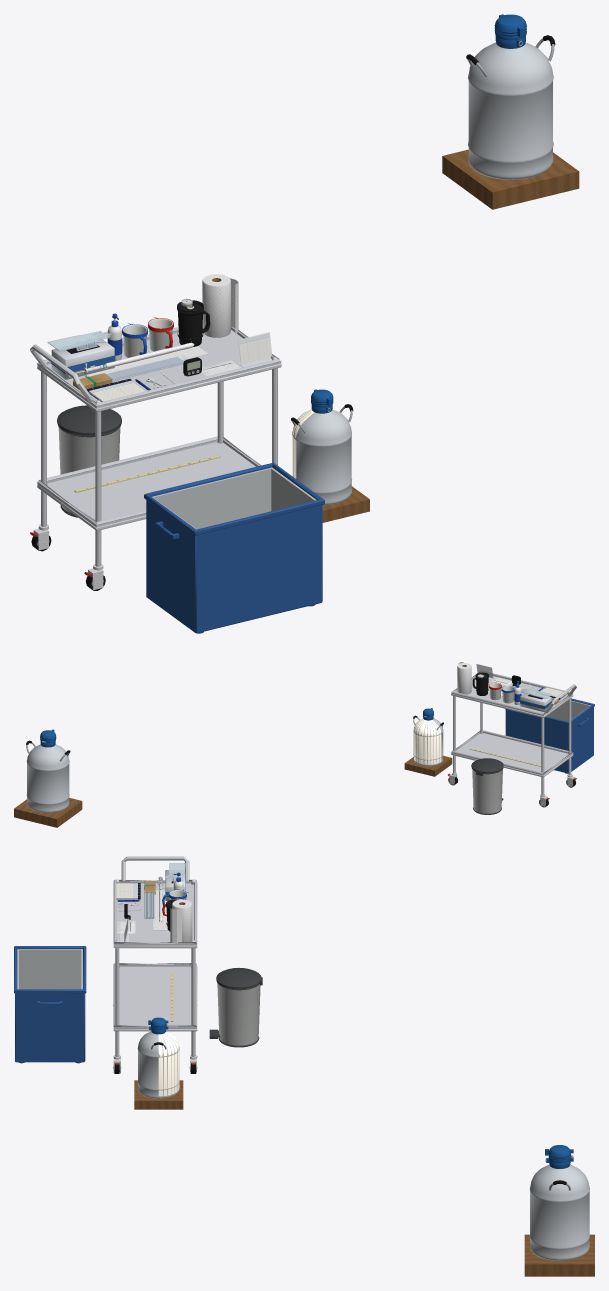
Rendered from ai_kit-DmMnvfIW.glb.
3 renders of one model, top to bottom at view 1: azimuth 30°, elevation 25°; view 2: azimuth 150°, elevation 25°; view 3: azimuth 270°, elevation 25°, orthographic. The views are drawn at different scales.
Visible parts, largest first — view 1: SET_kit_box, SET_trolley, ST_tank, LN_tank, ST_stand, SET_towel_roll, BIN_waste, SET_glove_box, BIN_waste_lid, SET_sheath_pack, SET_plan_card, LN_stand (+1 smaller); view 2: SET_trolley, SET_kit_box, ST_tank, BIN_waste, LN_cutaway, ST_stand, LN_tank, LN_stand, SET_towel_roll, SET_glove_box, BIN_waste_lid, TH_flask; view 3: SET_trolley, SET_kit_box, ST_tank, BIN_waste, LN_tank, ST_stand, LN_cutaway, SET_towel_roll, LN_stand, BIN_waste_lid.
Boxes of the visible parts, x1,y1,x2,y2 form: SET_kit_box: (144, 462, 324, 633); SET_trolley: (30, 326, 281, 590); ST_tank: (466, 35, 555, 179); LN_tank: (291, 404, 353, 505); ST_stand: (442, 149, 579, 209); SET_towel_roll: (202, 274, 238, 337); BIN_waste: (58, 426, 120, 517); SET_glove_box: (51, 339, 115, 379); BIN_waste_lid: (57, 405, 121, 435); SET_sheath_pack: (73, 355, 186, 389); SET_plan_card: (237, 332, 271, 367); LN_stand: (322, 486, 369, 522); SET_trolley: (448, 671, 576, 807); SET_kit_box: (505, 698, 594, 773); ST_tank: (26, 740, 70, 812); BIN_waste: (472, 768, 503, 814); LN_cutaway: (413, 718, 441, 764); ST_stand: (14, 798, 82, 827); LN_tank: (413, 715, 443, 766); LN_stand: (404, 756, 452, 776); SET_towel_roll: (457, 662, 471, 694); SET_glove_box: (520, 693, 551, 712); BIN_waste_lid: (471, 758, 503, 773); TH_flask: (472, 677, 488, 695); SET_trolley: (113, 856, 197, 1073); SET_kit_box: (14, 946, 86, 1063); ST_tank: (530, 1155, 589, 1260); BIN_waste: (217, 977, 262, 1047); LN_tank: (137, 1024, 179, 1098); ST_stand: (524, 1234, 594, 1276); LN_cutaway: (158, 1031, 179, 1098); SET_towel_roll: (170, 899, 192, 943); LN_stand: (134, 1080, 183, 1109); BIN_waste_lid: (216, 968, 261, 989).
Size of the model in its own units: 3.83 by 1.09 by 3.48.
Materials: 73 (13 with a texture image).
